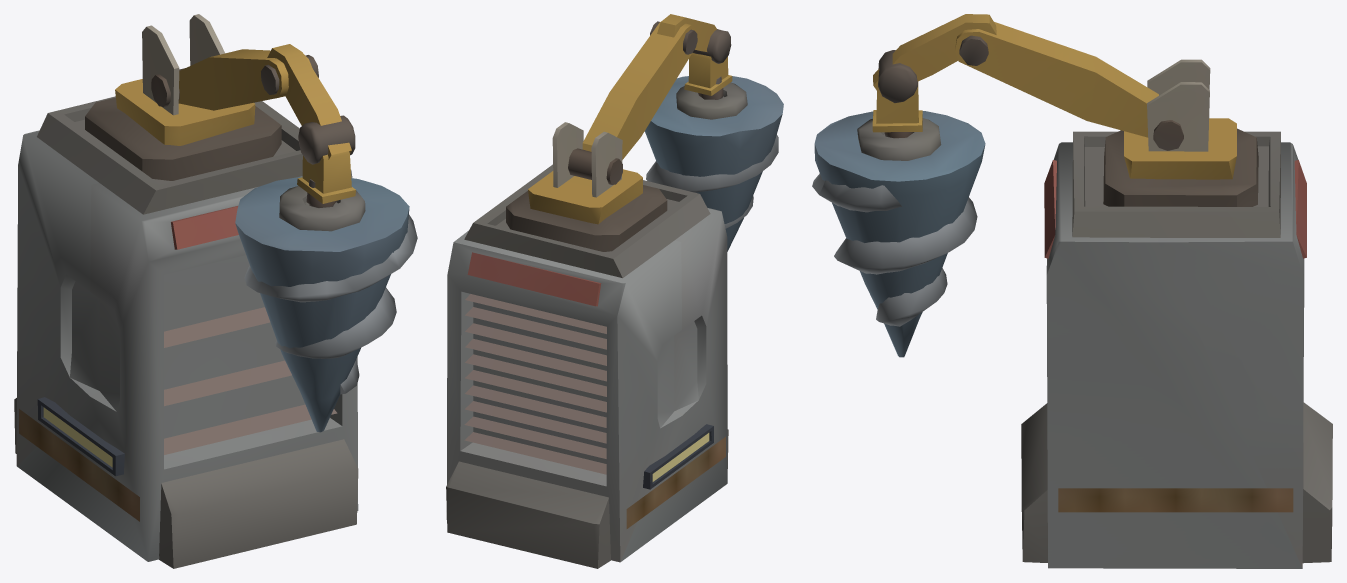
The model's file is CJQ.fbx.
The picture shows the model from 3 angles, left to right: view 1: azimuth 30°, elevation 25°; view 2: azimuth 150°, elevation 25°; view 3: azimuth 270°, elevation 25°; orthographic projection. The views are drawn at different scales.
Parts seen in each view (by area): view 1: caijiqi, zuantou, cjq02, cjq01; view 2: caijiqi, zuantou, cjq01, cjq02; view 3: caijiqi, zuantou, cjq01, cjq02.
Part boxes in pixels (box(x1,y1,x2,y2)): caijiqi: box(14, 14, 358, 568); zuantou: box(235, 176, 417, 432); cjq02: box(267, 44, 355, 207); cjq01: box(178, 49, 318, 110); caijiqi: box(446, 122, 728, 568); zuantou: box(644, 76, 783, 251); cjq01: box(582, 21, 697, 159); cjq02: box(657, 14, 732, 99); caijiqi: box(1021, 59, 1332, 568); zuantou: box(812, 111, 985, 357); cjq01: box(955, 22, 1158, 137); cjq02: box(872, 14, 996, 138).
Size of the model in its own units: 686 by 1524 by 1439.
